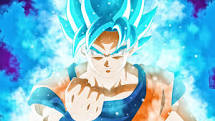Songoku: (72, 11, 142, 77)
